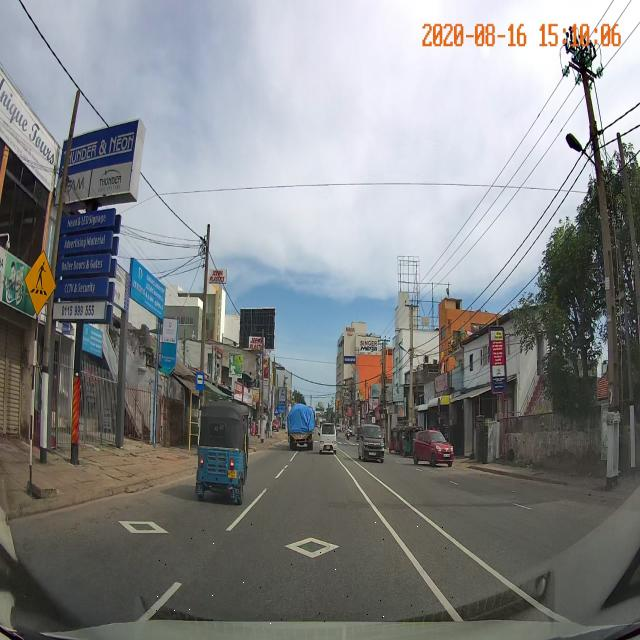diamond: (125, 523, 462, 627)
